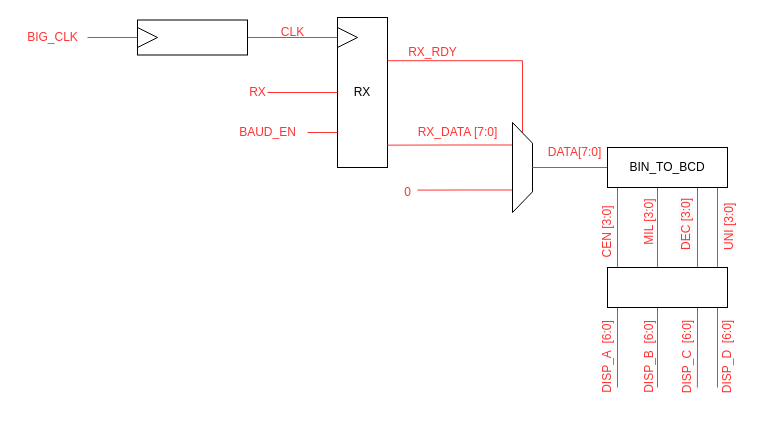
Some shapes in this 772 by 425 pixel diagram are drawn without their labels. Each missing label, with the box of its shape:
BCD_TO_7S: (606, 266, 728, 308)
CLK_DIV: (136, 19, 248, 55)
